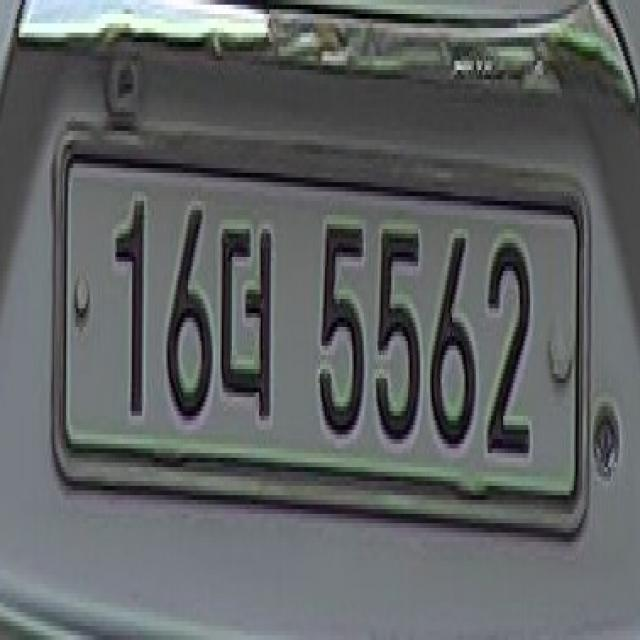1: (109, 182, 160, 444)
2: (481, 215, 537, 481)
5: (371, 201, 426, 462), (315, 196, 369, 449)
6: (156, 182, 218, 439), (425, 196, 481, 463)
deo: (215, 187, 279, 439)
license_plate: (51, 121, 589, 552)
